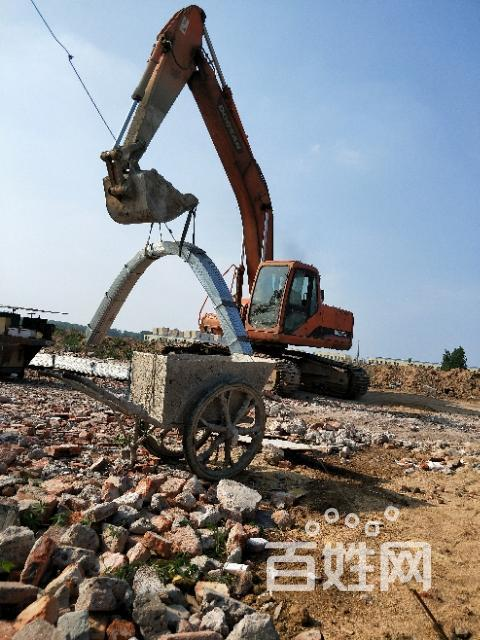excavator: (90, 1, 382, 406)
